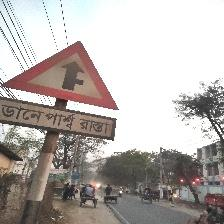Side-road-right: (0, 41, 121, 141)
